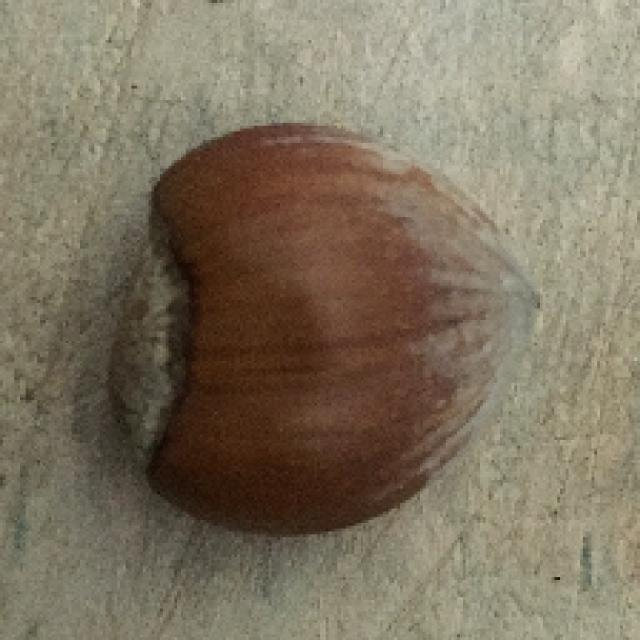QualityHazelnut: (112, 119, 547, 538)
